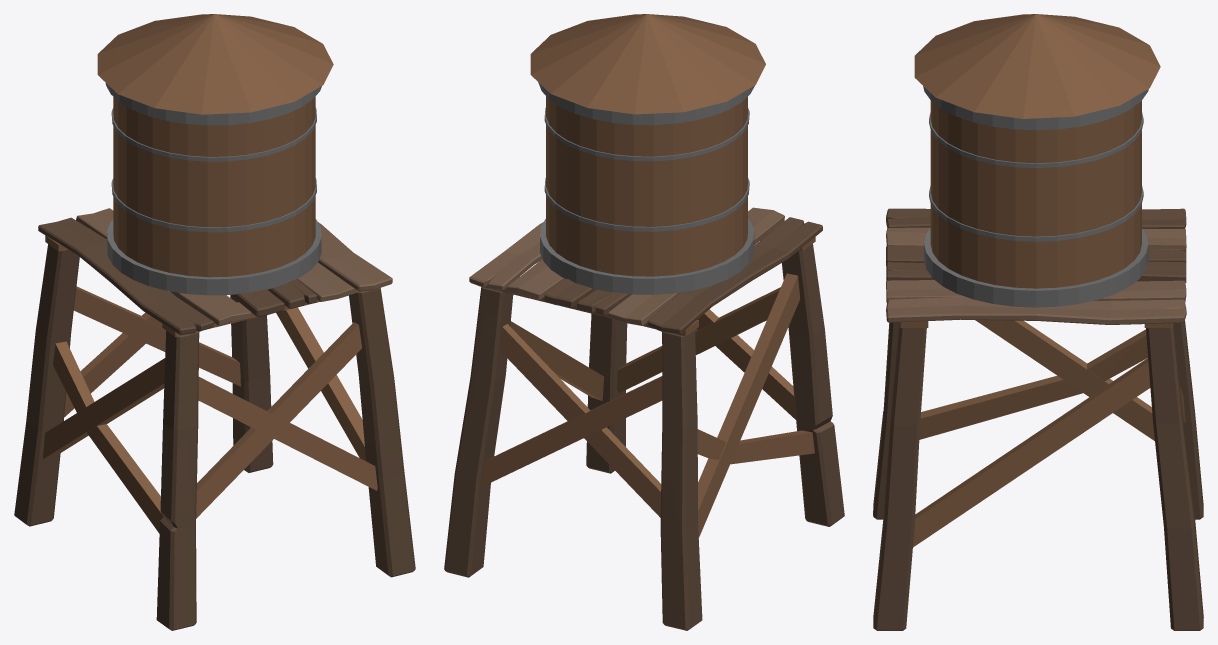
File: water tower final.fbx
3 renders of one model, left to right at view 1: azimuth 30°, elevation 25°; view 2: azimuth 150°, elevation 25°; view 3: azimuth 270°, elevation 25°, orthographic. The views are drawn at different scales.
Visible parts, largest first — view 1: Cylinder.014; view 2: Cylinder.014; view 3: Cylinder.014.
Boxes of the visible parts, x1,y1,x2,y2 form: Cylinder.014: [14, 14, 415, 630]; Cylinder.014: [444, 14, 844, 630]; Cylinder.014: [873, 14, 1203, 630].
Size of the model in its own units: 198 by 408 by 220.
